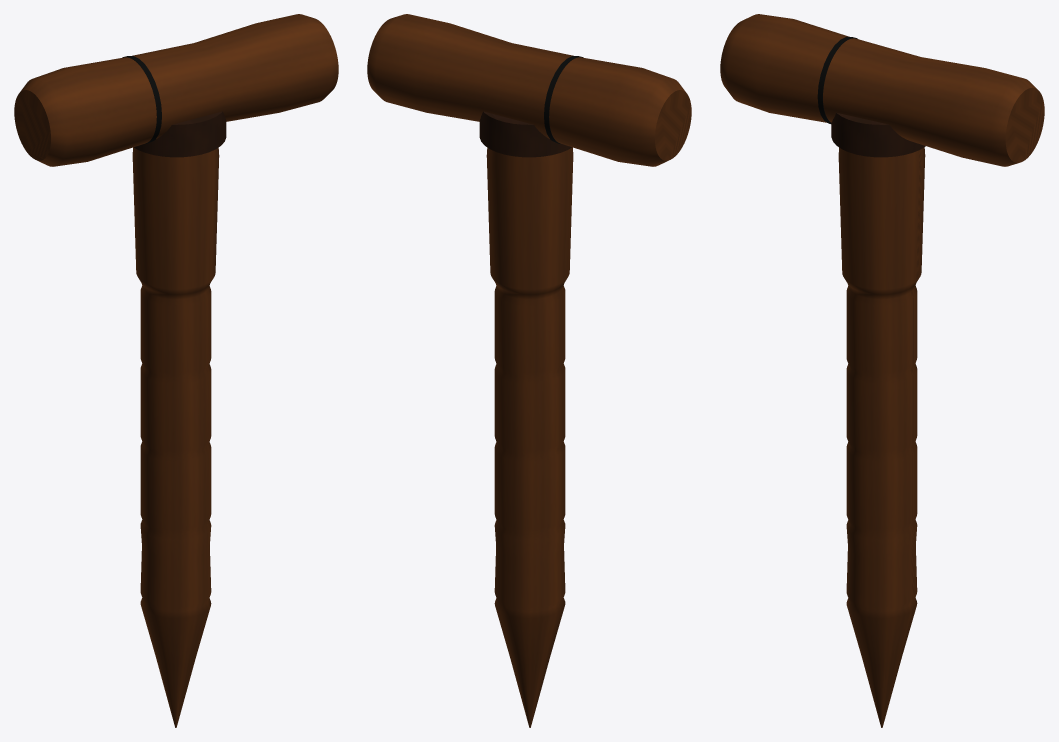
The model's file is Dibber.gltf.
3 views of the same model, side by side, from view 1: azimuth 30°, elevation 25°; view 2: azimuth 150°, elevation 25°; view 3: azimuth 330°, elevation 25° (orthographic).
Parts seen in each view (by area): view 1: Dibber__Body; view 2: Dibber__Body; view 3: Dibber__Body.
Part boxes in pixels (<box>): Dibber__Body: <box>14,14,338,727</box>; Dibber__Body: <box>367,14,691,727</box>; Dibber__Body: <box>720,14,1044,727</box>.
Size of the model in its own units: 0.1288 by 0.2926 by 0.0398.
Materials: 1 (1 with a texture image).
